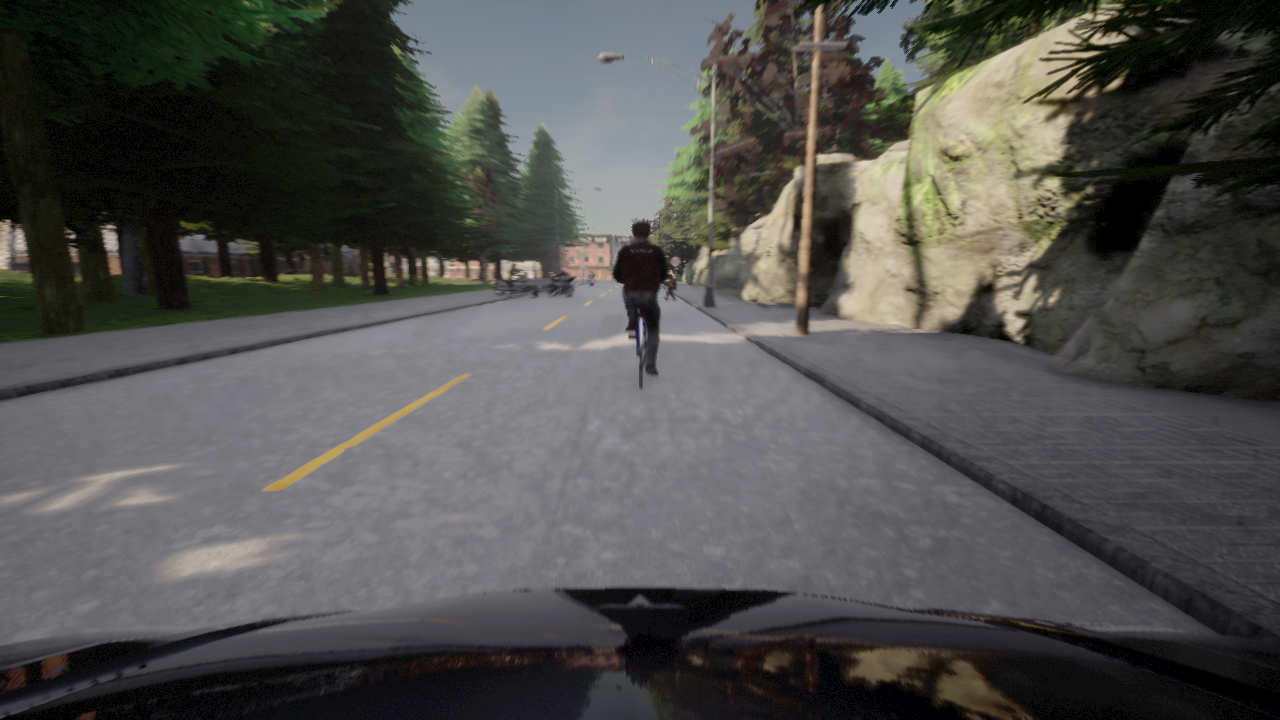cyclist: (0, 588, 1279, 719), (628, 310, 655, 389), (492, 273, 538, 298), (545, 272, 577, 297), (587, 274, 595, 287)
pedestrian: (664, 275, 674, 300)
